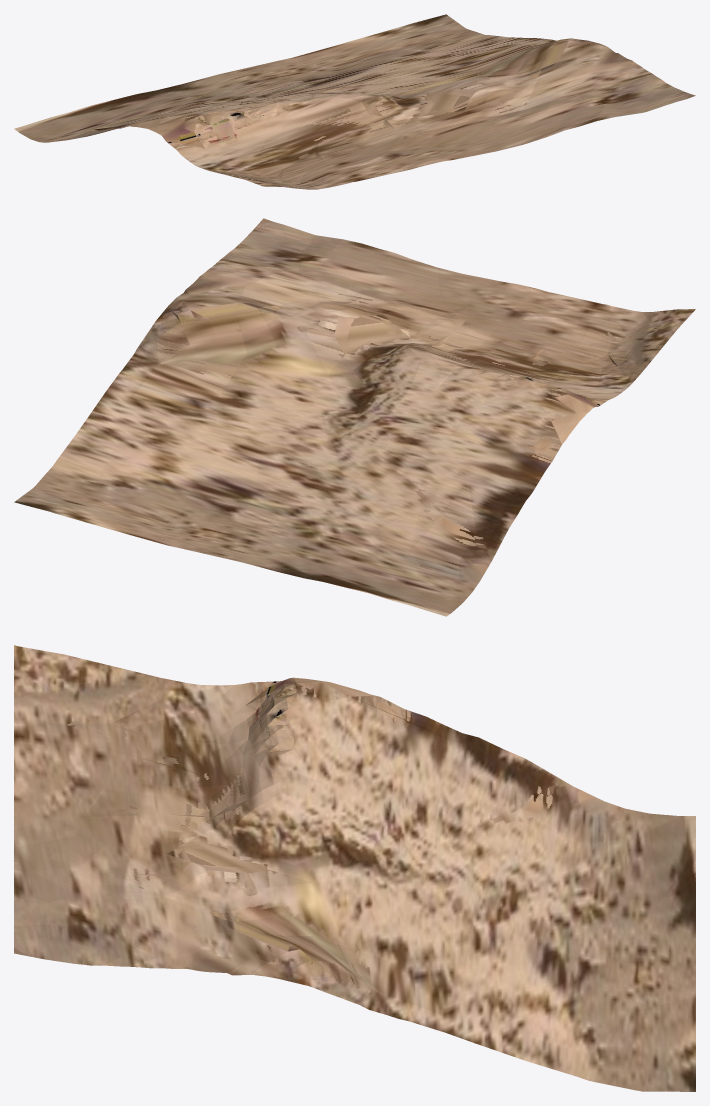
3 views of the same model, one above another, from view 1: azimuth 30°, elevation 25°; view 2: azimuth 150°, elevation 25°; view 3: azimuth 270°, elevation 25° (orthographic). The views are drawn at different scales.
Bounding box in the file's own units: 1.04 × 0.2891 × 1.04.
2 materials, 2 textured.
